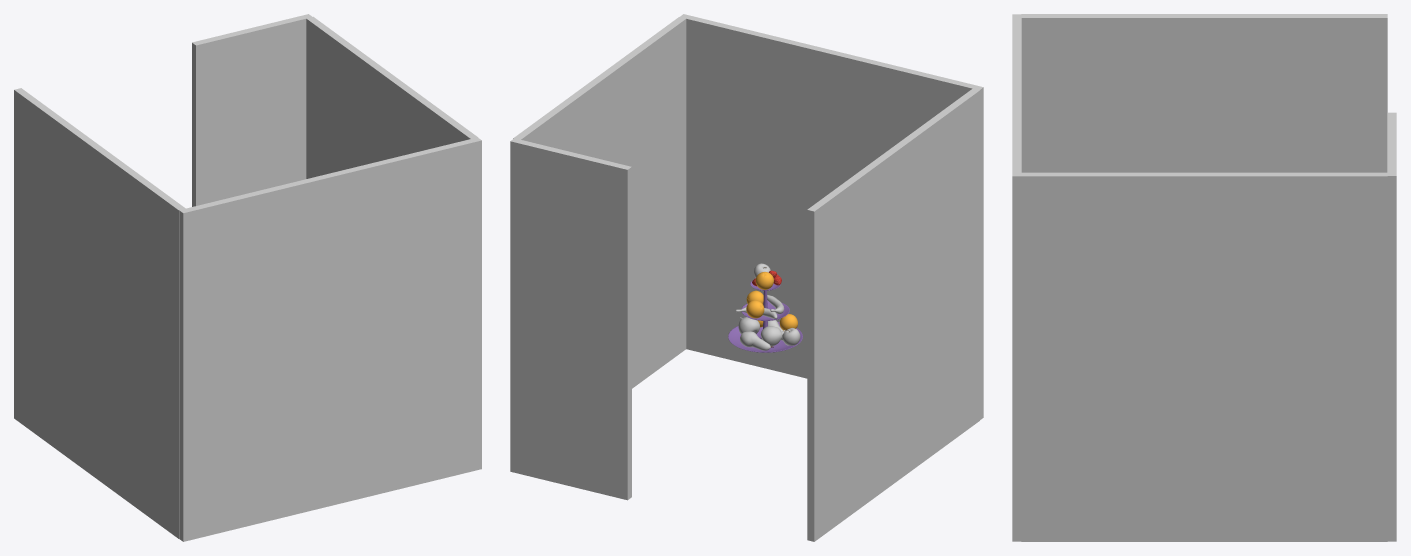
3 renders of one model, left to right at view 1: azimuth 30°, elevation 25°; view 2: azimuth 150°, elevation 25°; view 3: azimuth 270°, elevation 25°, orthographic. The views are drawn at different scales.
Parts seen in each view (by area): view 1: Cube.002, Cube.001, Cube.004, Cube; view 2: Cube.001, Cube.002, Cube.004, Cube, fruit_bowl; view 3: Cube, Cube.001, Cube.002, Cube.004.
Part boxes in pixels (x1=…): Cube.002: x1=179, y1=137, x2=481, y2=541; Cube.001: x1=14, y1=88, x2=185, y2=538; Cube.004: x1=192, y1=14, x2=312, y2=206; Cube: x1=306, y1=16, x2=477, y2=178; Cube.001: x1=807, y1=88, x2=979, y2=541; Cube.002: x1=680, y1=14, x2=983, y2=419; Cube.004: x1=510, y1=138, x2=631, y2=500; Cube: x1=513, y1=17, x2=686, y2=388; fruit_bowl: x1=728, y1=280, x2=802, y2=352; Cube: x1=1021, y1=172, x2=1387, y2=541; Cube.001: x1=1021, y1=14, x2=1387, y2=172; Cube.002: x1=1012, y1=14, x2=1021, y2=541; Cube.004: x1=1387, y1=112, x2=1396, y2=541.
Size of what is drawn, in the model's own units: 131 by 138 by 131.
